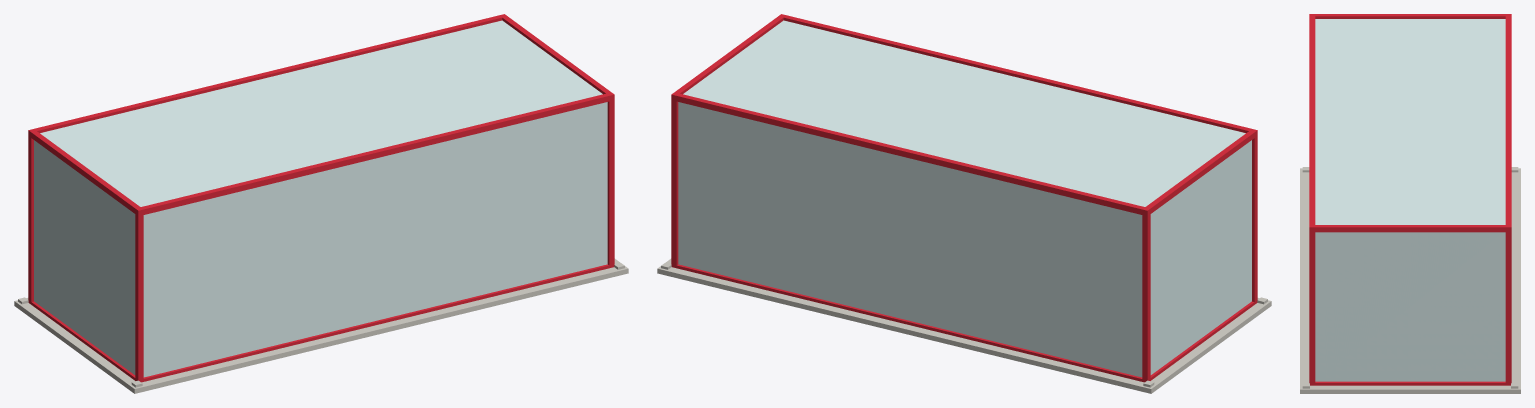
Rendered from ferrari-sf24.glb.
The picture shows the model from 3 angles, left to right: view 1: azimuth 30°, elevation 25°; view 2: azimuth 150°, elevation 25°; view 3: azimuth 270°, elevation 25°; orthographic projection. The views are drawn at different scales.
Bounding box in the file's own units: 0.64 × 0.2195 × 0.27.
